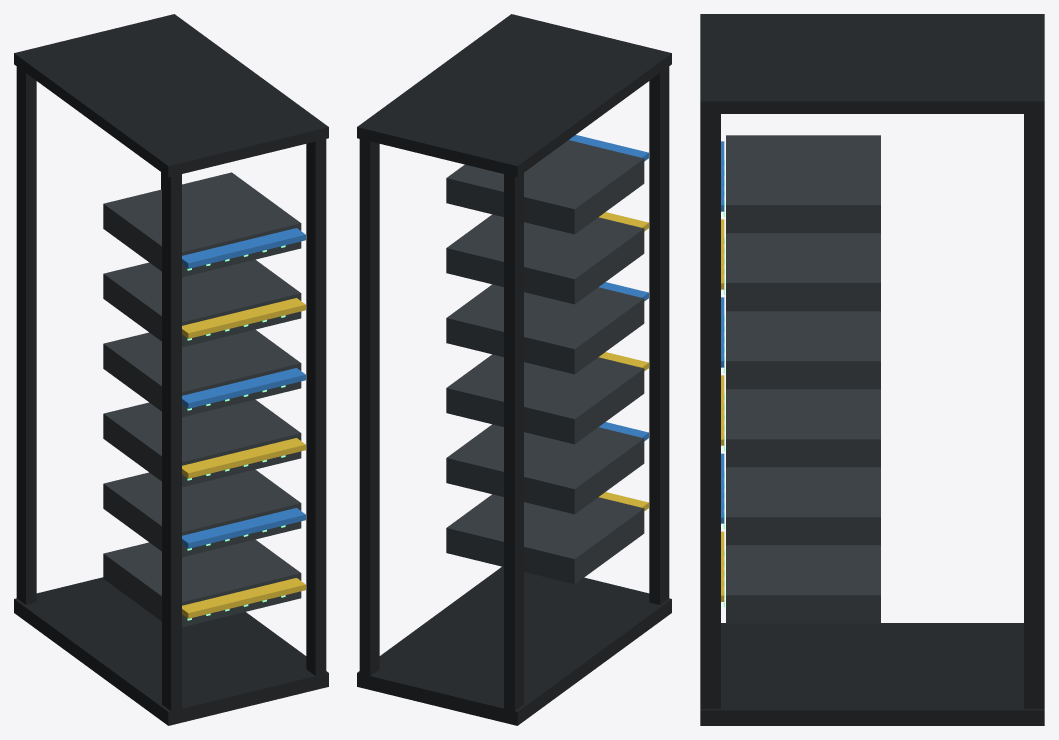
File: dc-network-rack.glb
3 renders of one model, left to right at view 1: azimuth 30°, elevation 25°; view 2: azimuth 150°, elevation 25°; view 3: azimuth 270°, elevation 25°, orthographic. The views are drawn at different scales.
Parts seen in each view (by area): view 1: kit-dc-network; view 2: kit-dc-network; view 3: kit-dc-network.
Part boxes in pixels (bbox=[...]): kit-dc-network: bbox=[14, 14, 328, 725]; kit-dc-network: bbox=[357, 14, 671, 725]; kit-dc-network: bbox=[700, 14, 1044, 725].
Size of the model in its own units: 0.6001 by 2 by 1.
